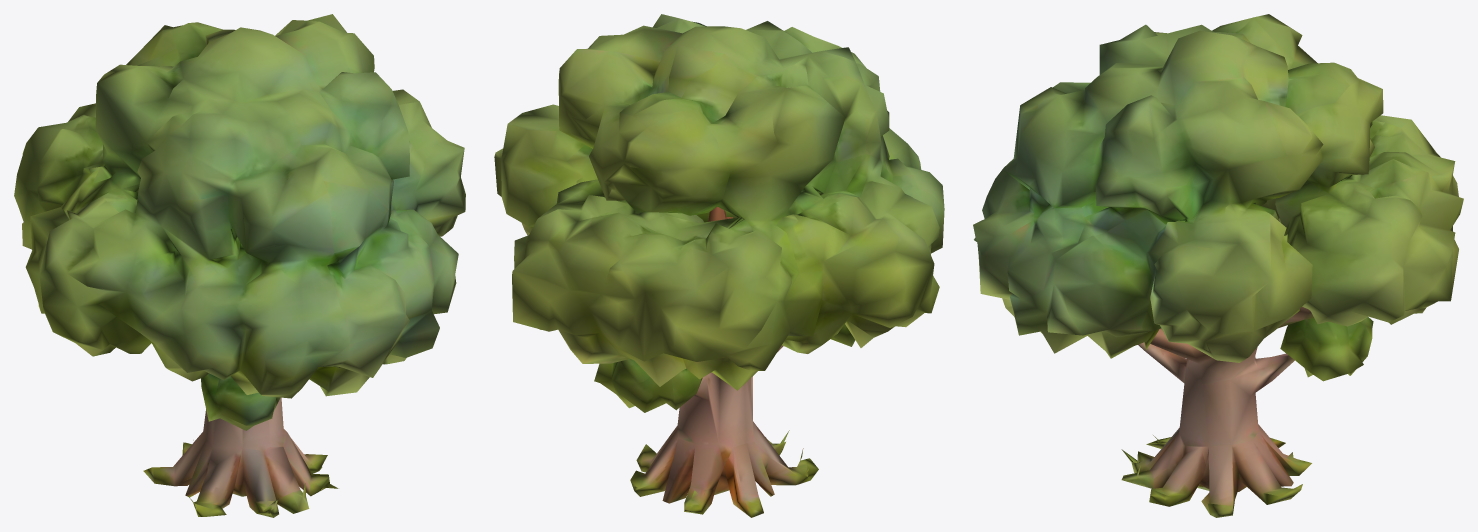
File: oak_tree.glb
3 views of the same model, side by side, from view 1: azimuth 30°, elevation 25°; view 2: azimuth 150°, elevation 25°; view 3: azimuth 270°, elevation 25° (orthographic).
Visible parts, largest first — view 1: tripo_node_2692cd71-35b6-48a8-8f82-62bc134c5556; view 2: tripo_node_2692cd71-35b6-48a8-8f82-62bc134c5556; view 3: tripo_node_2692cd71-35b6-48a8-8f82-62bc134c5556.
Part boxes in pixels (x1,y1,x2,y2): tripo_node_2692cd71-35b6-48a8-8f82-62bc134c5556: (14, 14, 465, 517); tripo_node_2692cd71-35b6-48a8-8f82-62bc134c5556: (494, 14, 944, 517); tripo_node_2692cd71-35b6-48a8-8f82-62bc134c5556: (973, 14, 1463, 517).
Size of the model in its own units: 0.9183 by 0.9338 by 0.928.
1 material, 1 textured.
